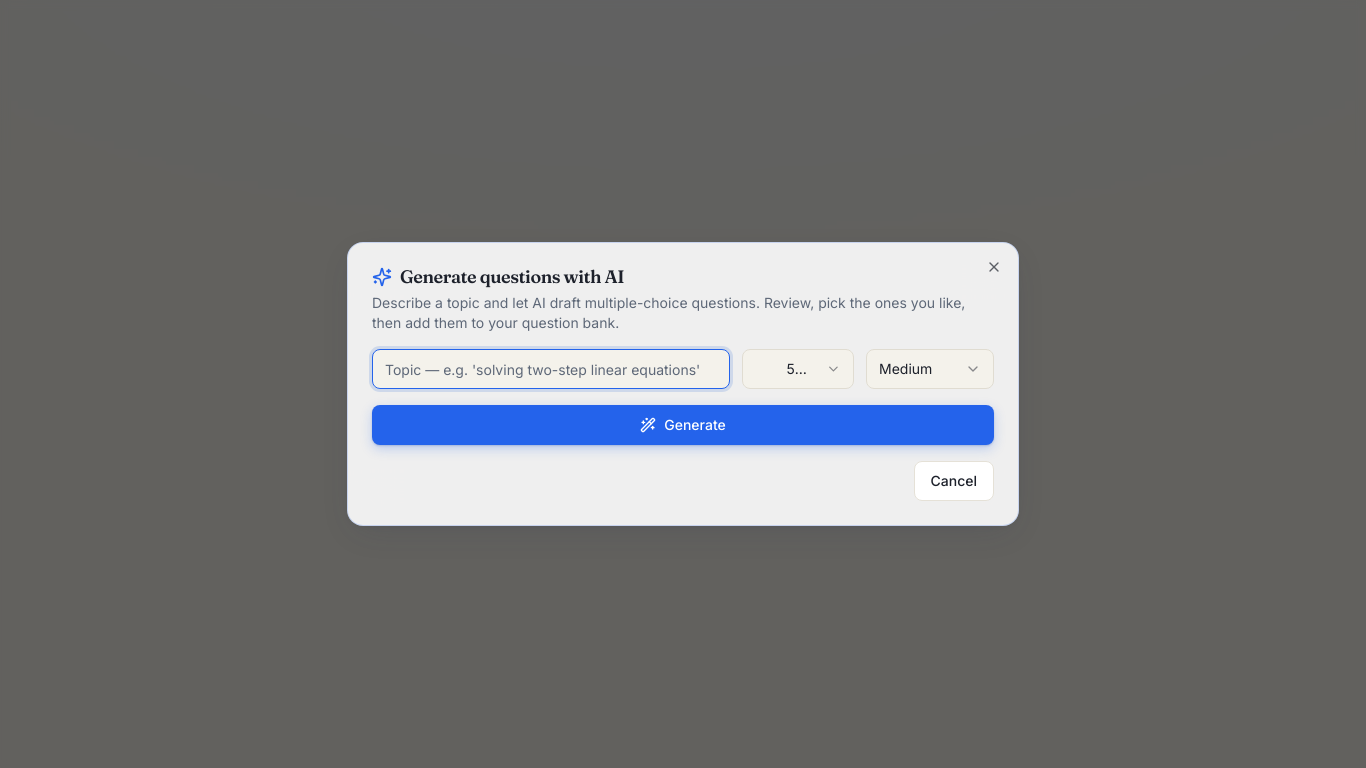
Test: AiPracticeQuestionDialog › generates questions and renders them as selectable candidates
Type "addition" into the field with placeholder "Topic — e.g. 'solving two-step linear equations'" at (551, 369), box [372, 349, 730, 389]
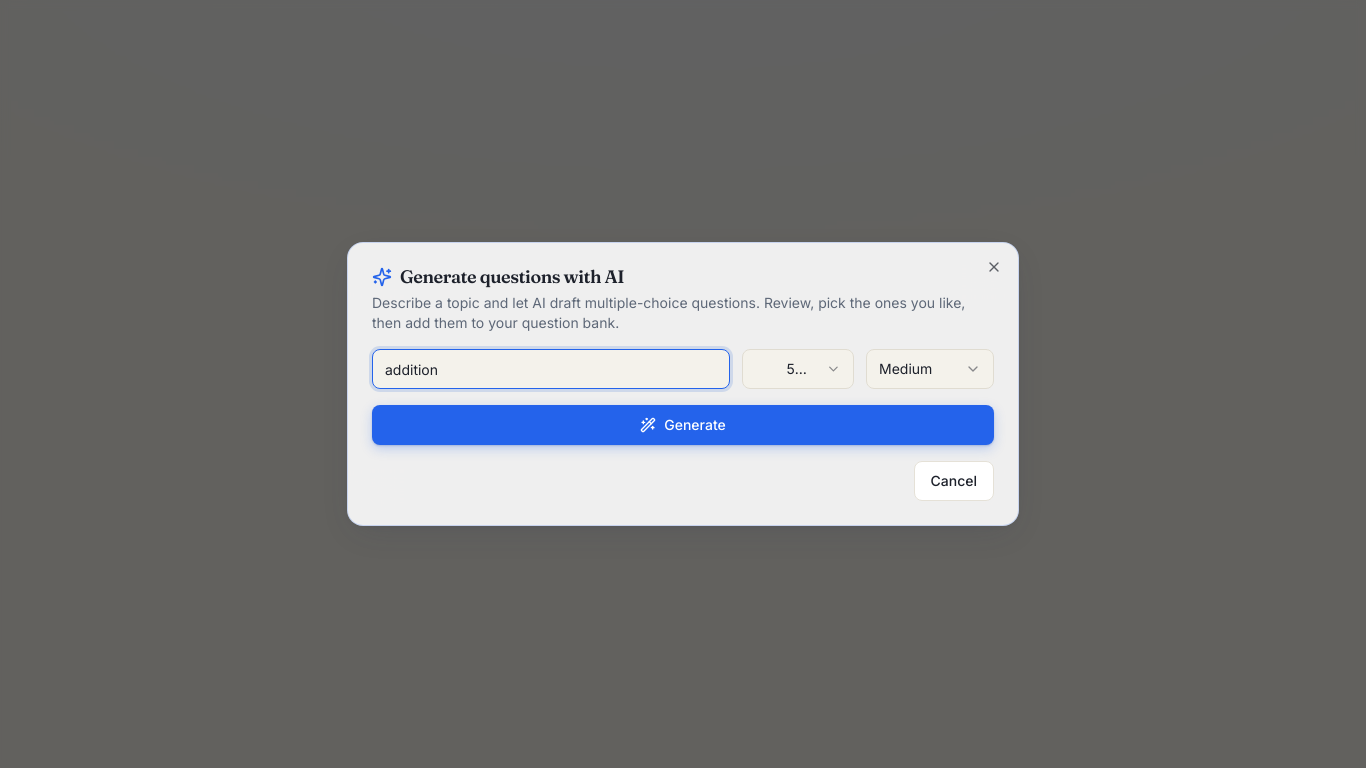
Click the button "Generate" at (683, 425), box [372, 405, 994, 445]
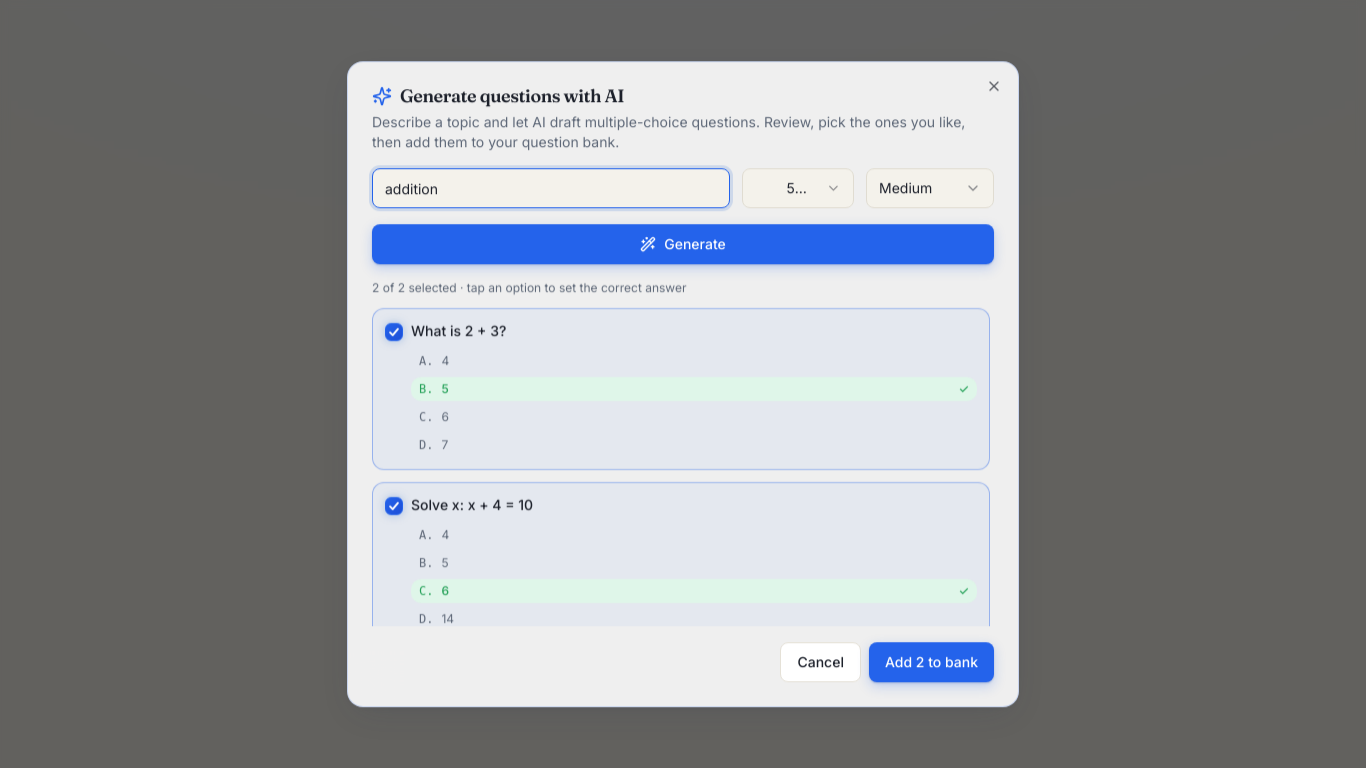
Expected: the text "What is 2 + 3?" is shown, [411, 322, 506, 339]
Expected: the text "Solve x: x + 4 = 10" is shown, [411, 496, 533, 513]
